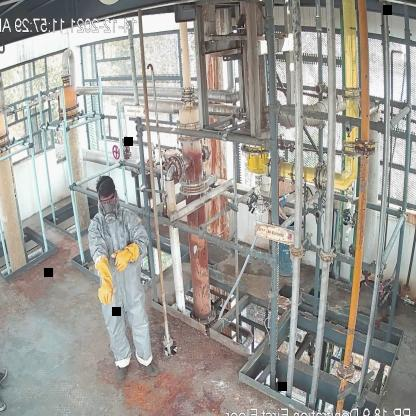goggles: (99, 194, 117, 204)
mask: (102, 201, 119, 224)
